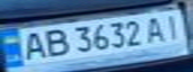2: (124, 17, 148, 47)
3: (69, 24, 93, 54), (106, 19, 130, 49)
6: (90, 20, 112, 52)
A: (15, 29, 51, 62), (142, 14, 172, 44)
B: (36, 26, 72, 59)
I: (157, 12, 187, 42)
